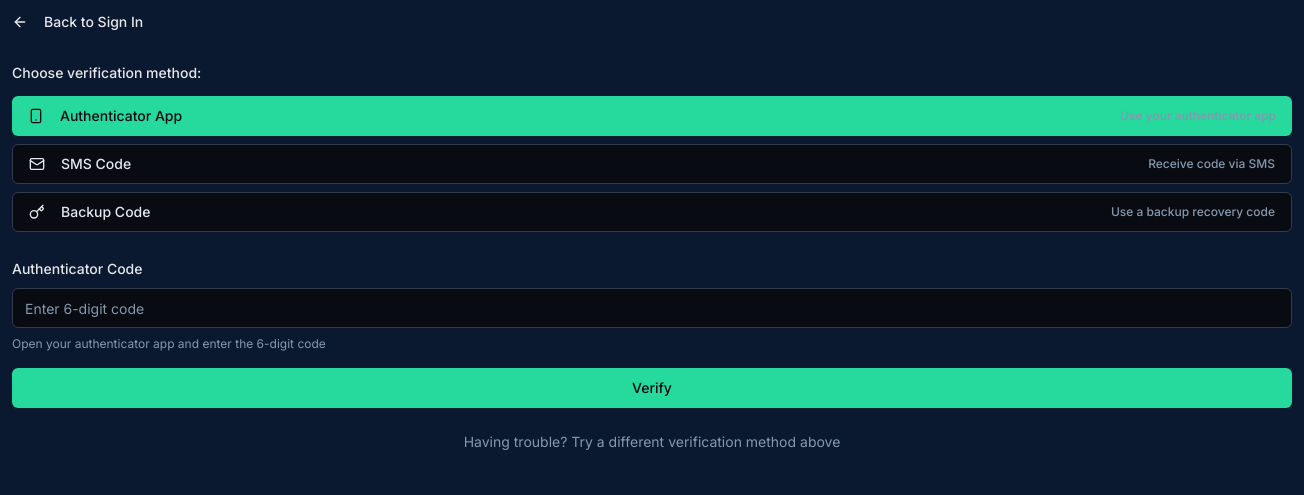
Test: TwoFactorForm › TOTP Verification › should validate TOTP code format
# Test invalid code
Type "123" into the field labelled "Authenticator Code". click: (652, 308)
box: [12,288,1292,328]
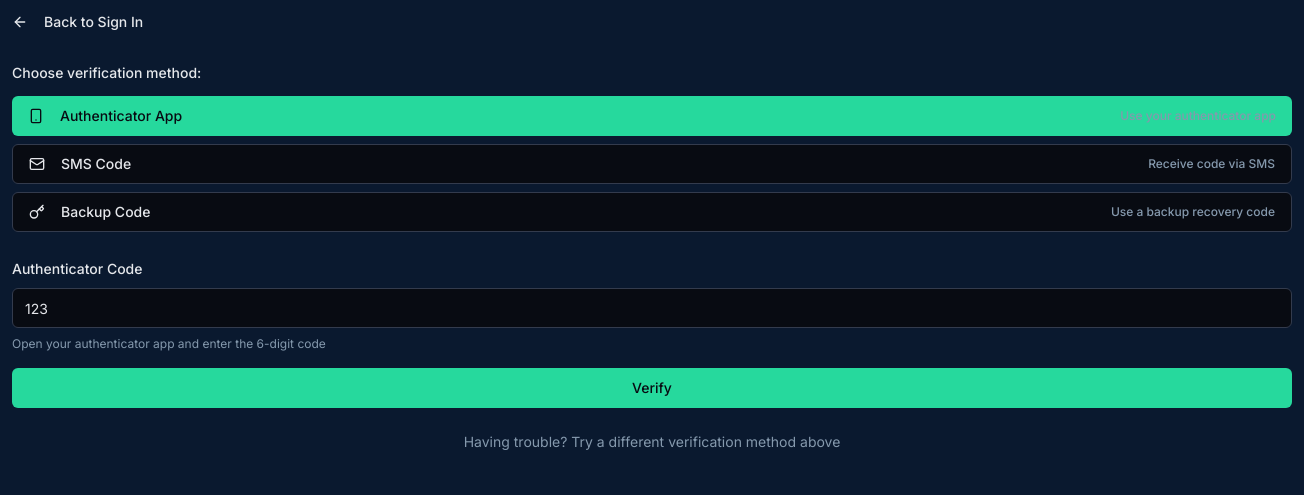
Click the button "Verify". click: click(652, 388)
box: [12,368,1292,408]
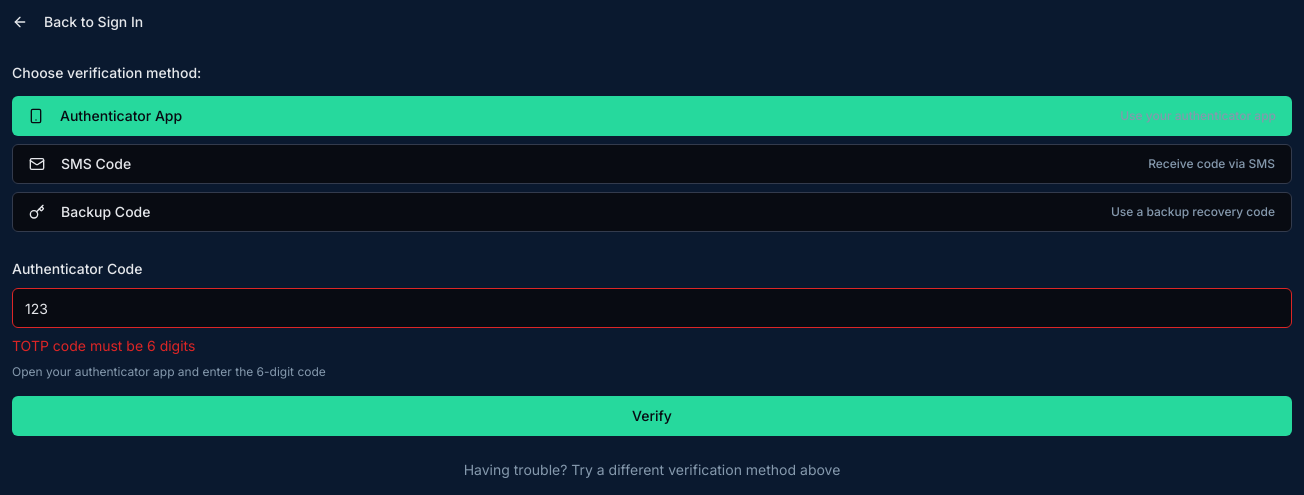
Expected: the text "TOTP code must be 6 digits" is shown, [12,337,195,354]
